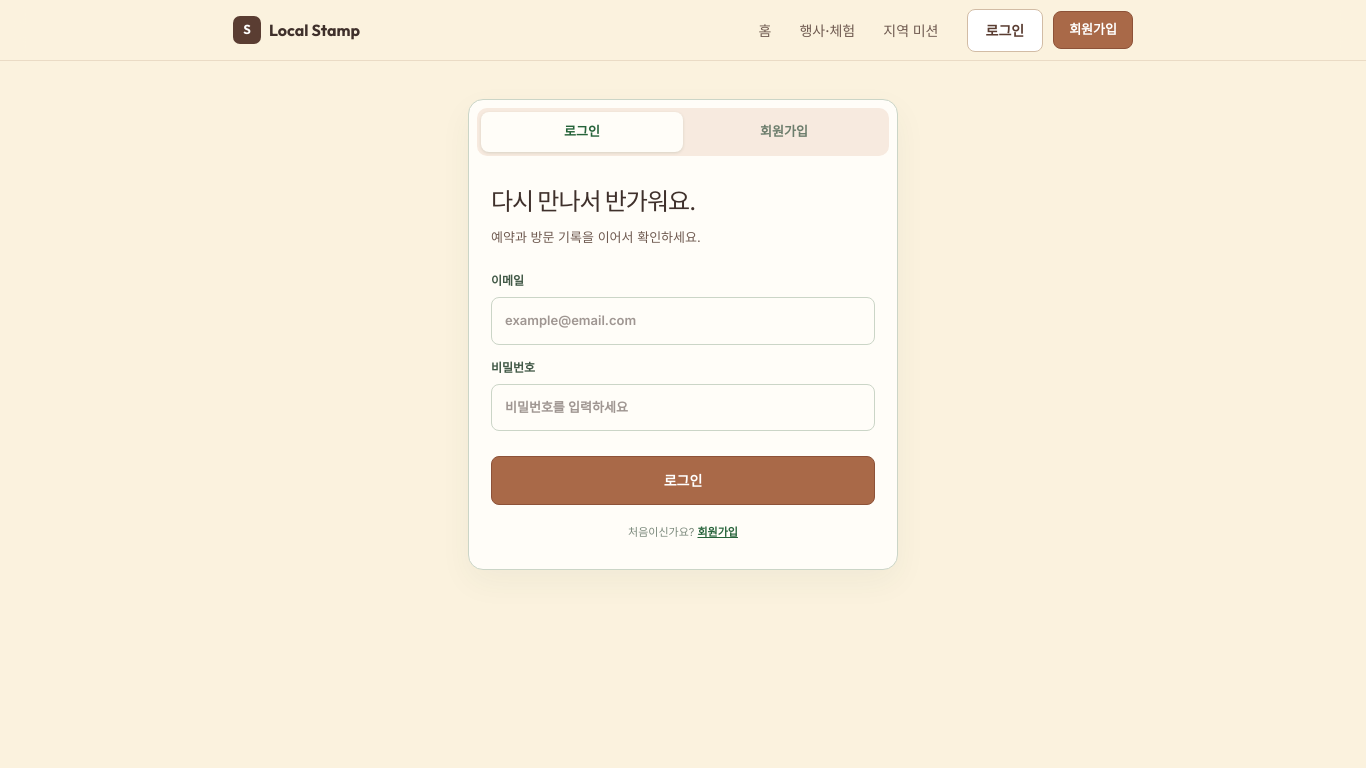
Scenario: visitor authentication integration › returns to the protected page after a successful login
This screenshot has width=1366, height=768.
Type "visitor@example.com" into the field labelled "이메일" at {"x": 683, "y": 321}, box [491,297,875,344]
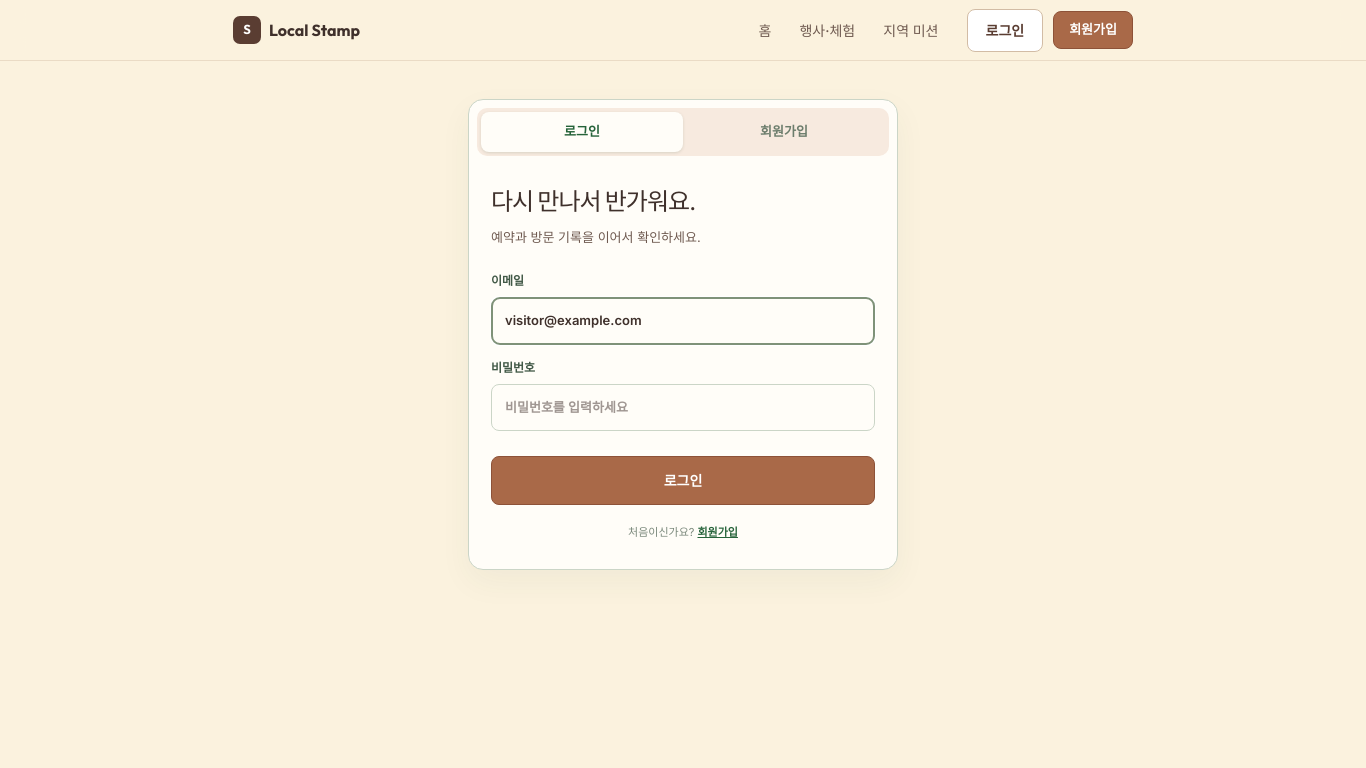
Type "Password!1" into the password field labelled "비밀번호" at {"x": 683, "y": 407}, box [491,384,875,431]
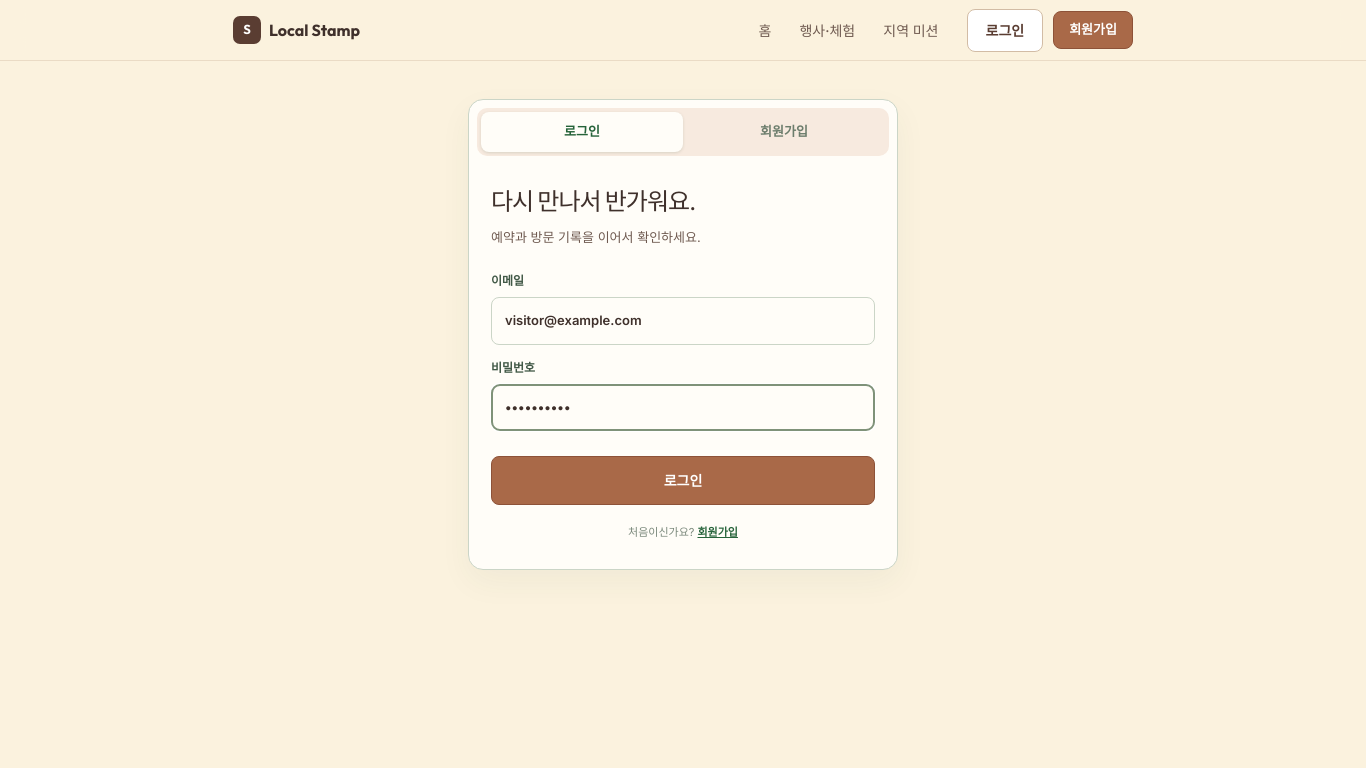
Click the button "로그인" at {"x": 683, "y": 480}, box [491,456,875,505]
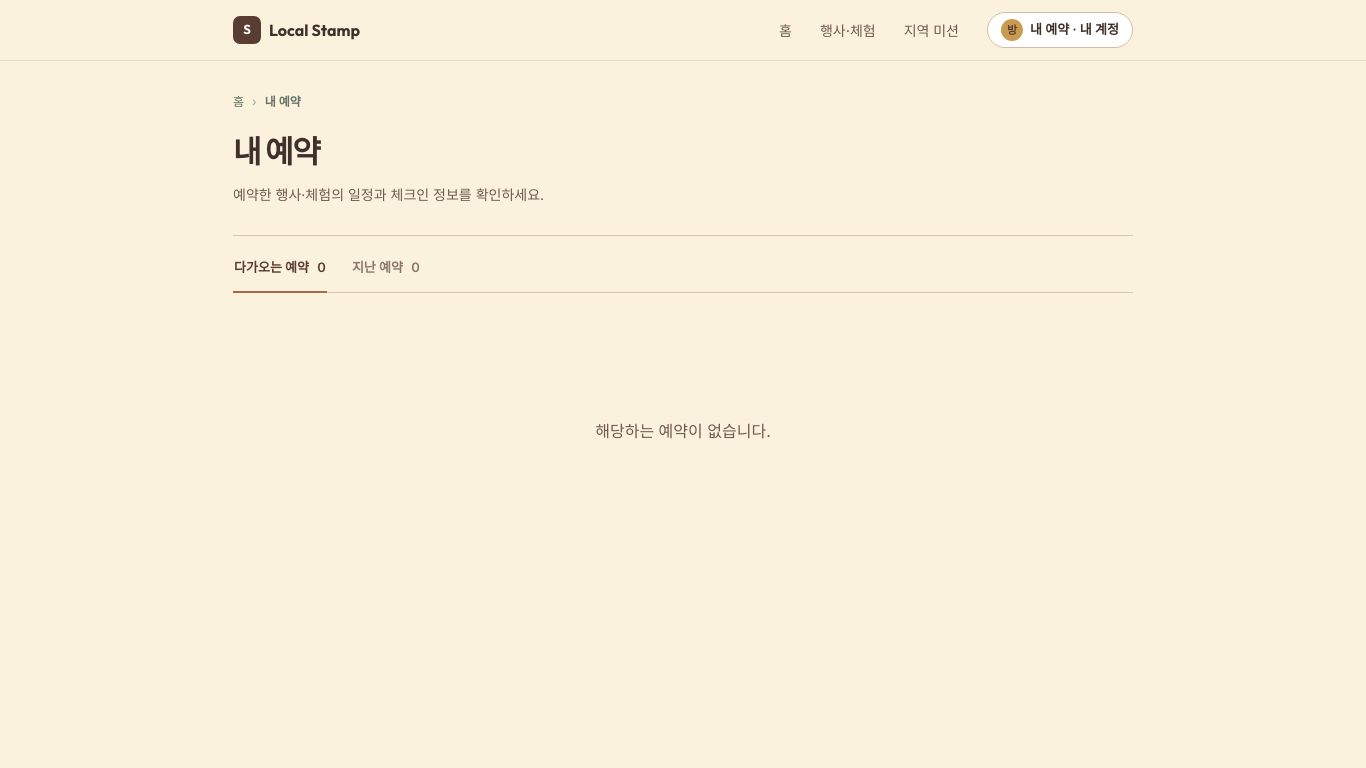
Check: the heading "내 예약" is shown, box [233,132,320,171]
